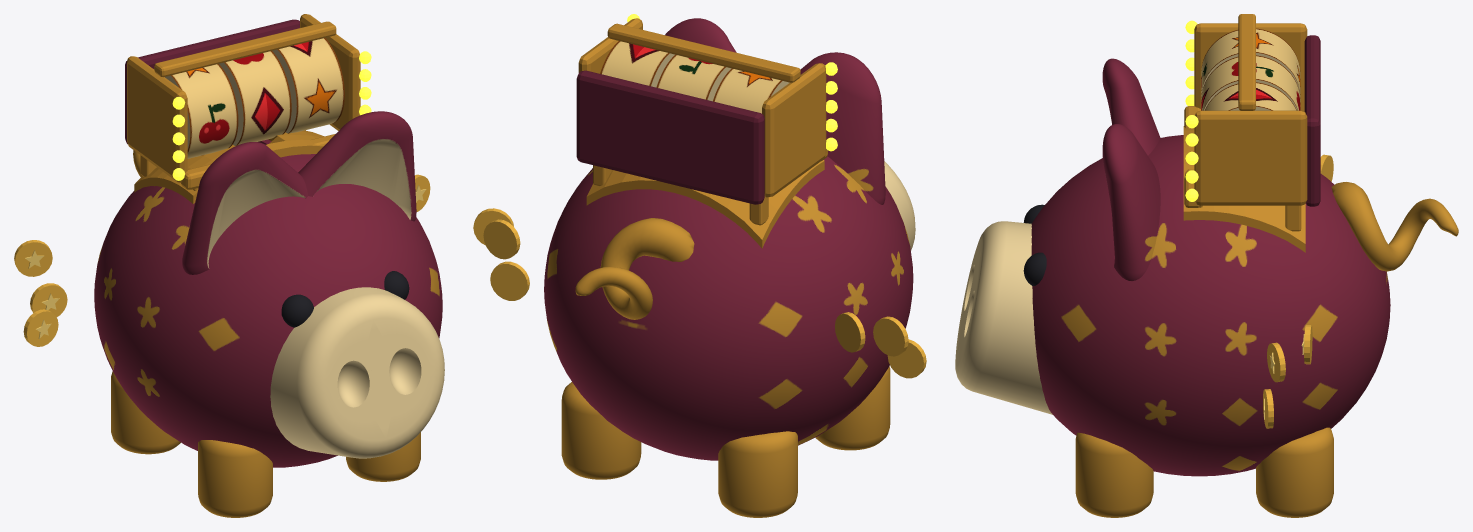
Rendered from jackpot-arcade-v1-complete.fbx.
3 views of the same model, side by side, from view 1: azimuth 30°, elevation 25°; view 2: azimuth 150°, elevation 25°; view 3: azimuth 270°, elevation 25° (orthographic). The views are drawn at different scales.
Visible parts, largest first — view 1: Body, Snout, Ears, Legs, ReelSide_-0.585, SymbolReel_2, SymbolReel_1, SymbolReel_0, UpperRail, ReelSaddle, RearHousing, ReelSide_0.585 (+5 smaller); view 2: Body, RearHousing, Legs, Ears, ReelSide_-0.585, Tail, ReelSaddle, UpperRail, SymbolReel_1, SymbolReel_2, SymbolReel_0, GoldToken_0 (+7 smaller); view 3: Body, Snout, Legs, ReelSide_0.585, Ears, Tail, ReelSaddle, RearHousing, ReelSide_-0.585, SymbolReel_0, SymbolReel_1, UpperRail (+3 smaller).
Boxes of the visible parts, left/top/right/bottom form: Body: left=94, top=139, right=442, bottom=467; Snout: left=270, top=287, right=444, bottom=458; Ears: left=182, top=111, right=416, bottom=274; Legs: left=111, top=371, right=420, bottom=517; ReelSide_-0.585: left=127, top=56, right=187, bottom=182; SymbolReel_2: left=272, top=38, right=344, bottom=133; SymbolReel_1: left=219, top=51, right=291, bottom=145; SymbolReel_0: left=154, top=64, right=238, bottom=158; UpperRail: left=154, top=21, right=336, bottom=77; ReelSaddle: left=134, top=130, right=324, bottom=204; RearHousing: left=125, top=19, right=299, bottom=144; ReelSide_0.585: left=300, top=14, right=360, bottom=130; Body: left=544, top=156, right=913, bottom=460; RearHousing: left=576, top=70, right=764, bottom=204; Legs: left=561, top=366, right=890, bottom=517; Ears: left=665, top=18, right=885, bottom=204; ReelSide_-0.585: left=762, top=63, right=826, bottom=197; Tail: left=575, top=218, right=694, bottom=319; ReelSaddle: left=586, top=160, right=824, bottom=248; UpperRail: left=607, top=23, right=800, bottom=82; SymbolReel_1: left=656, top=54, right=731, bottom=101; SymbolReel_2: left=600, top=41, right=674, bottom=87; SymbolReel_0: left=713, top=68, right=789, bottom=113; GoldToken_0: left=490, top=261, right=529, bottom=300; Body: left=1031, top=135, right=1390, bottom=476; Snout: left=955, top=221, right=1052, bottom=414; Legs: left=1075, top=427, right=1333, bottom=517; ReelSide_0.585: left=1194, top=110, right=1307, bottom=205; Ears: left=1102, top=58, right=1160, bottom=280; Tail: left=1331, top=182, right=1458, bottom=271; ReelSaddle: left=1183, top=126, right=1305, bottom=252; RearHousing: left=1304, top=35, right=1320, bottom=206; ReelSide_-0.585: left=1194, top=23, right=1307, bottom=111; SymbolReel_0: left=1201, top=28, right=1300, bottom=97; SymbolReel_1: left=1201, top=55, right=1300, bottom=110; UpperRail: left=1238, top=14, right=1255, bottom=110.
Size of the model in its own units: 1686 by 1540 by 1708.
Materials: 12 (5 with a texture image).
